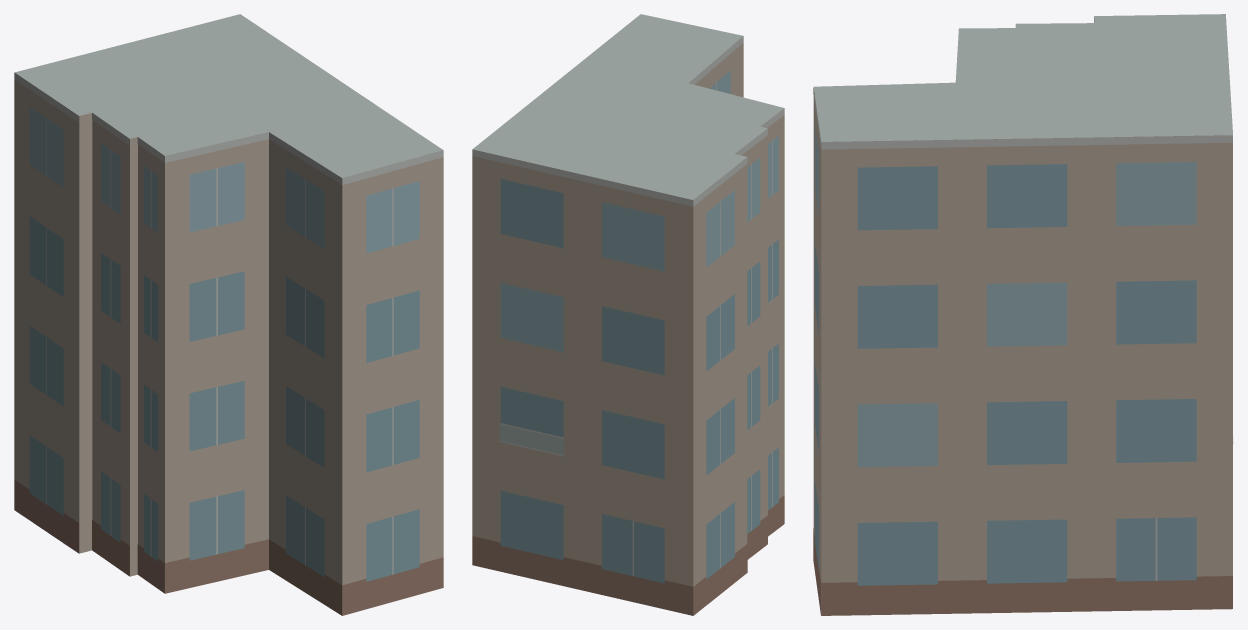
The model's file is survey-upis-32465146.glb.
3 views of the same model, side by side, from view 1: azimuth 30°, elevation 25°; view 2: azimuth 150°, elevation 25°; view 3: azimuth 270°, elevation 25° (orthographic). The views are drawn at different scales.
Parts seen in each view (by area): view 1: survey-upis-32465146.tmp; view 2: survey-upis-32465146.tmp; view 3: survey-upis-32465146.tmp.
Part boxes in pixels (x1,y1,x2,y2): survey-upis-32465146.tmp: (14,14,443,615); survey-upis-32465146.tmp: (472,14,784,615); survey-upis-32465146.tmp: (813,14,1233,615).
Size of the model in its own units: 8.81 by 15.2 by 12.22.
